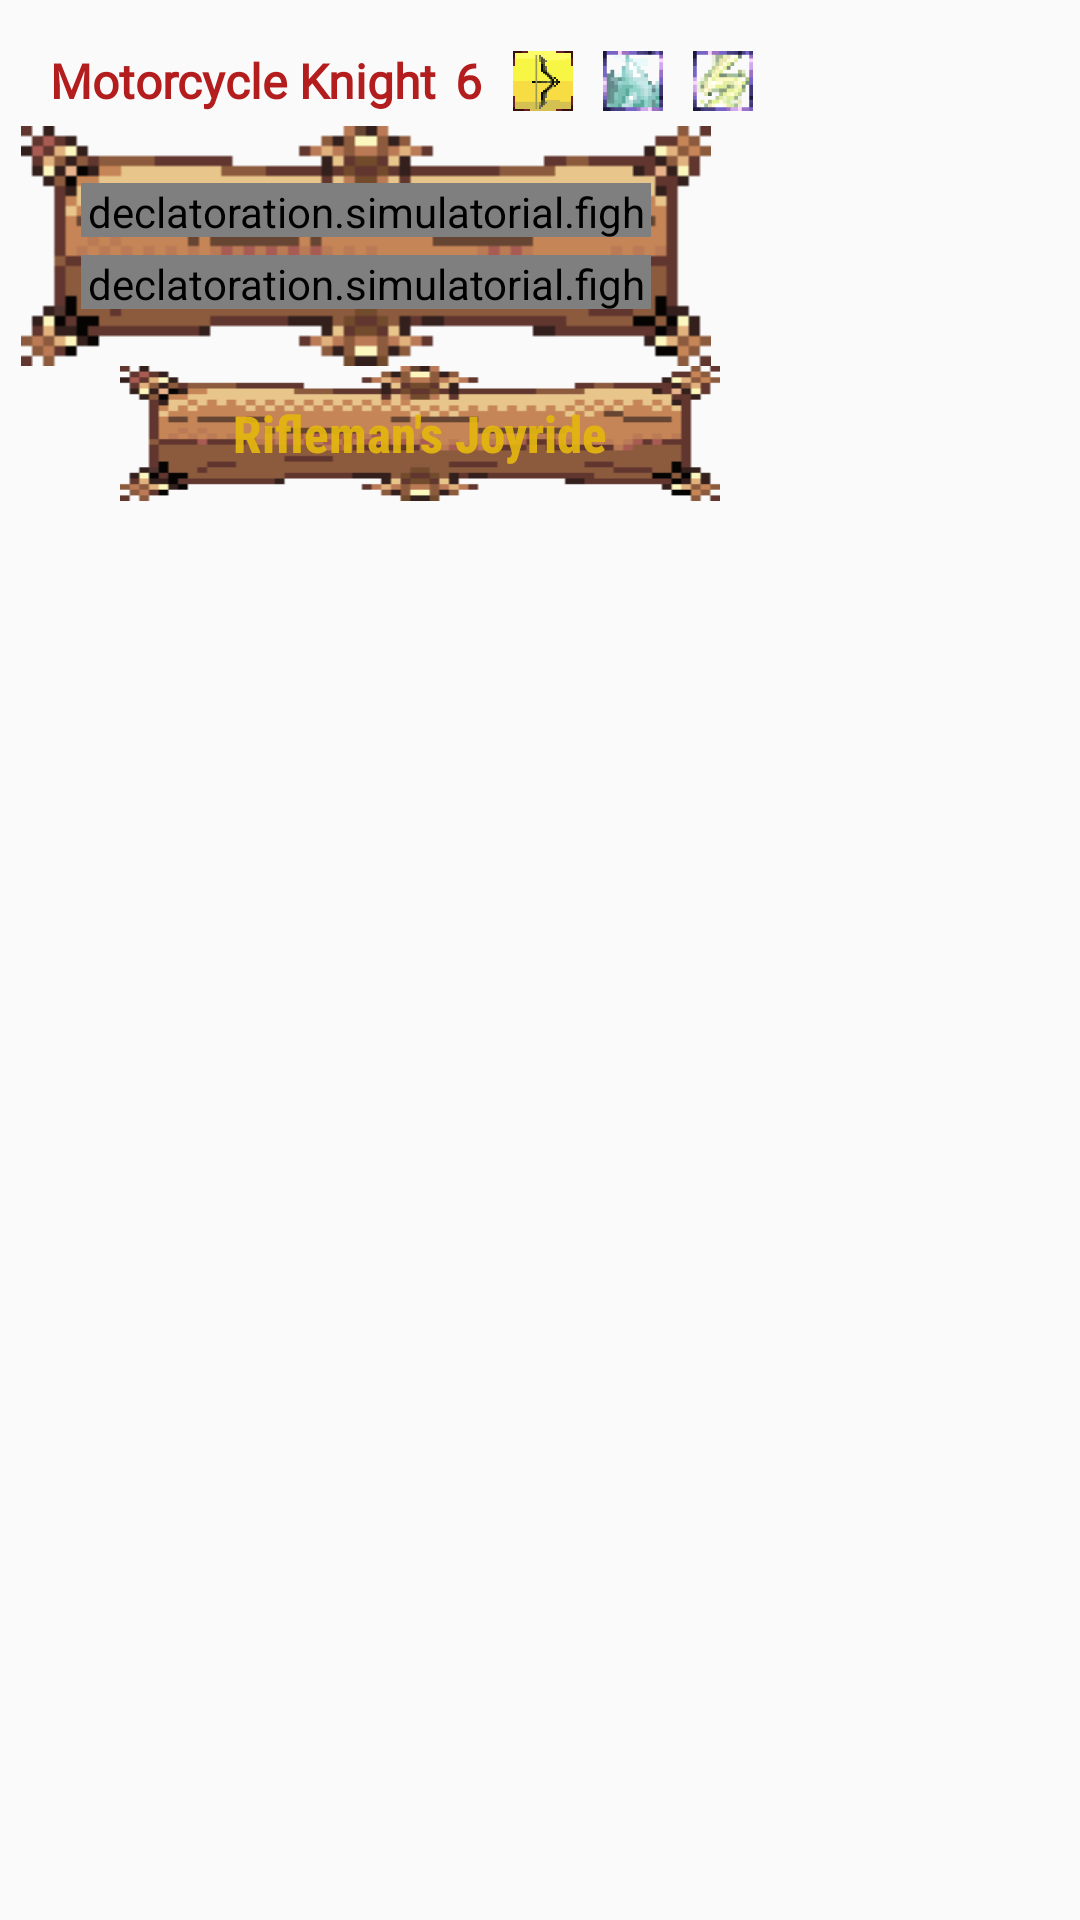

Named icons in this screenshot (1080 x 1920) and their centers, point (x, y):
symbol glacier: point (633, 81)
symbol thunder: point (723, 81)
weapon bow: point (543, 81)
